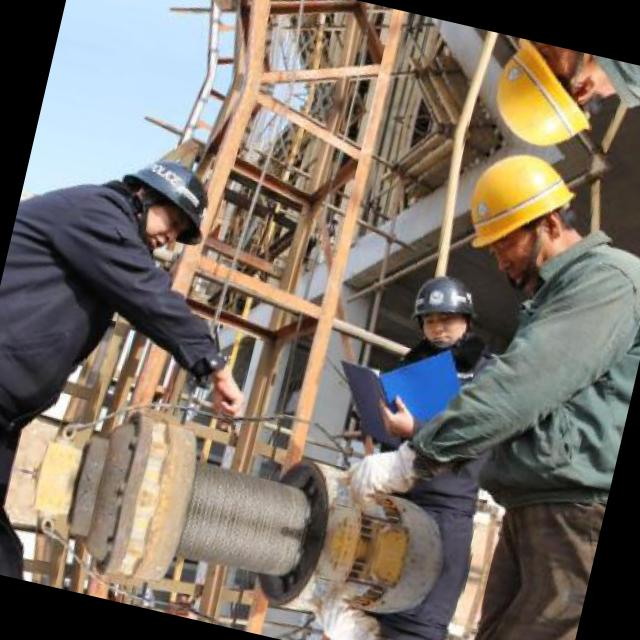helmet: (437, 134, 590, 292), (466, 31, 616, 165), (100, 126, 239, 270), (398, 261, 486, 362), (158, 0, 279, 20)
